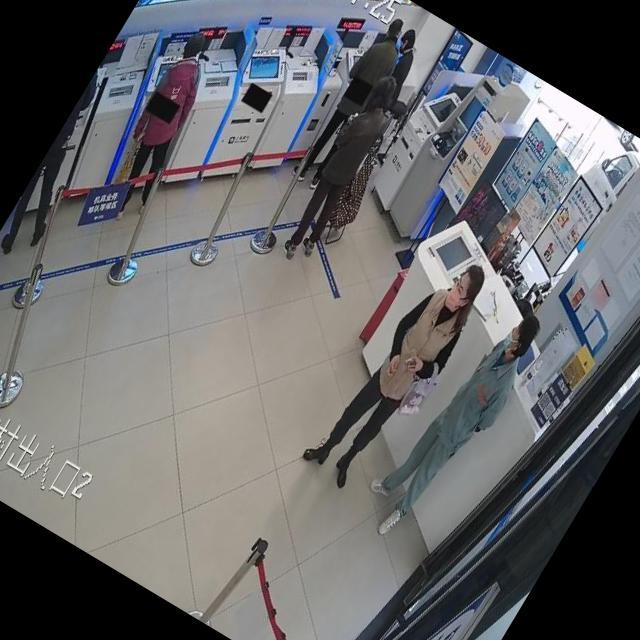person: (350, 288, 552, 555), (299, 239, 497, 502), (0, 53, 140, 264), (87, 28, 235, 227), (269, 73, 409, 270), (287, 9, 418, 194), (366, 24, 434, 110), (366, 26, 433, 110)
